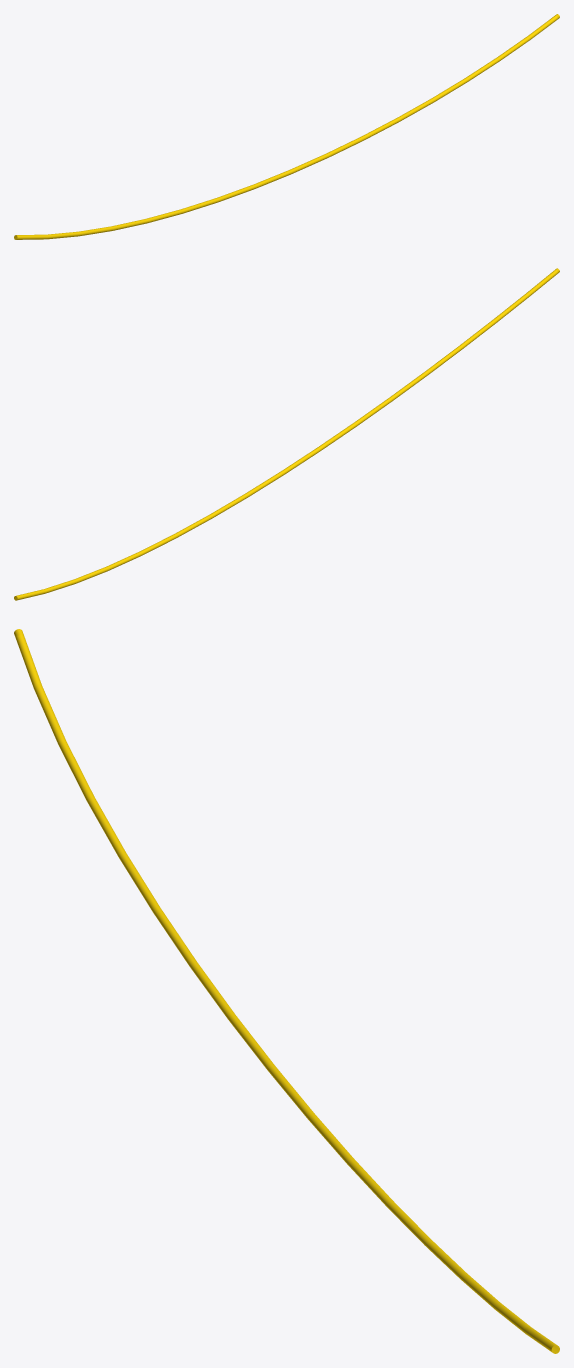
Rendered from Event_421115418_track_19.fbx.
The picture shows the model from 3 angles, top to bottom: view 1: azimuth 30°, elevation 25°; view 2: azimuth 210°, elevation 25°; view 3: azimuth 270°, elevation 25°; orthographic projection. The views are drawn at different scales.
Parts seen in each view (by area): view 1: Model; view 2: Model; view 3: Model.
Part boxes in pixels (bbox=[...]): Model: bbox=[14, 14, 559, 239]; Model: bbox=[14, 268, 559, 600]; Model: bbox=[14, 629, 559, 1353].
Size of the model in its own units: 6.62 by 0.7177 by 2.46.
